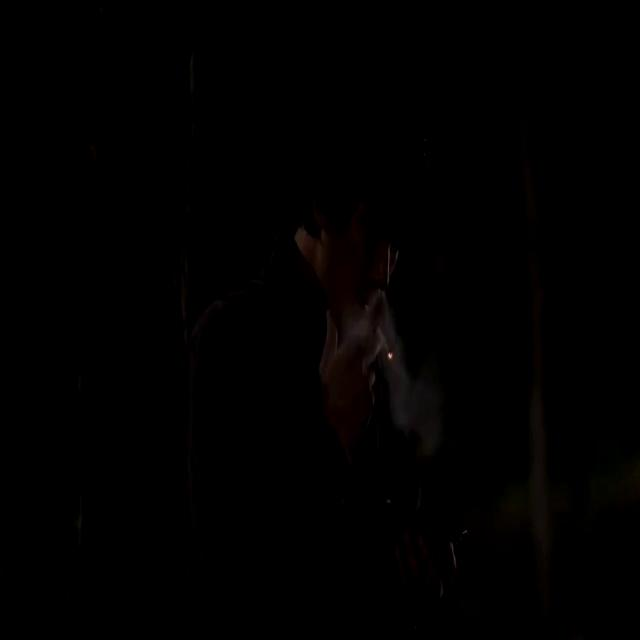Smooking: (368, 310, 404, 368)
